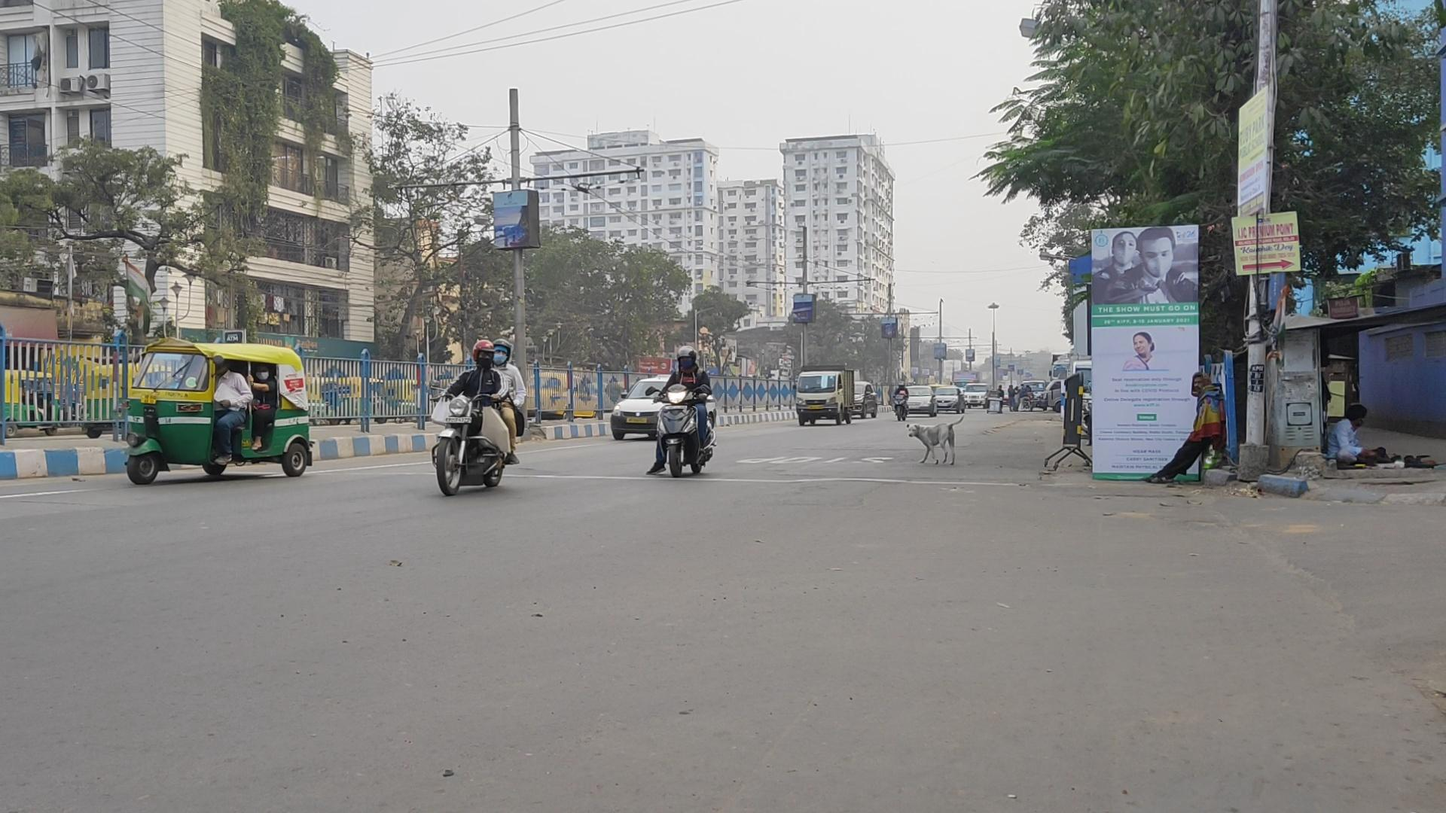Auto: (125, 336, 315, 486)
bike: (428, 337, 526, 495), (647, 345, 718, 479), (892, 381, 910, 422)
car: (611, 373, 718, 443), (904, 385, 938, 418), (1019, 379, 1049, 412), (933, 386, 966, 414), (853, 381, 877, 419)
van: (794, 363, 856, 428), (964, 382, 990, 410)
